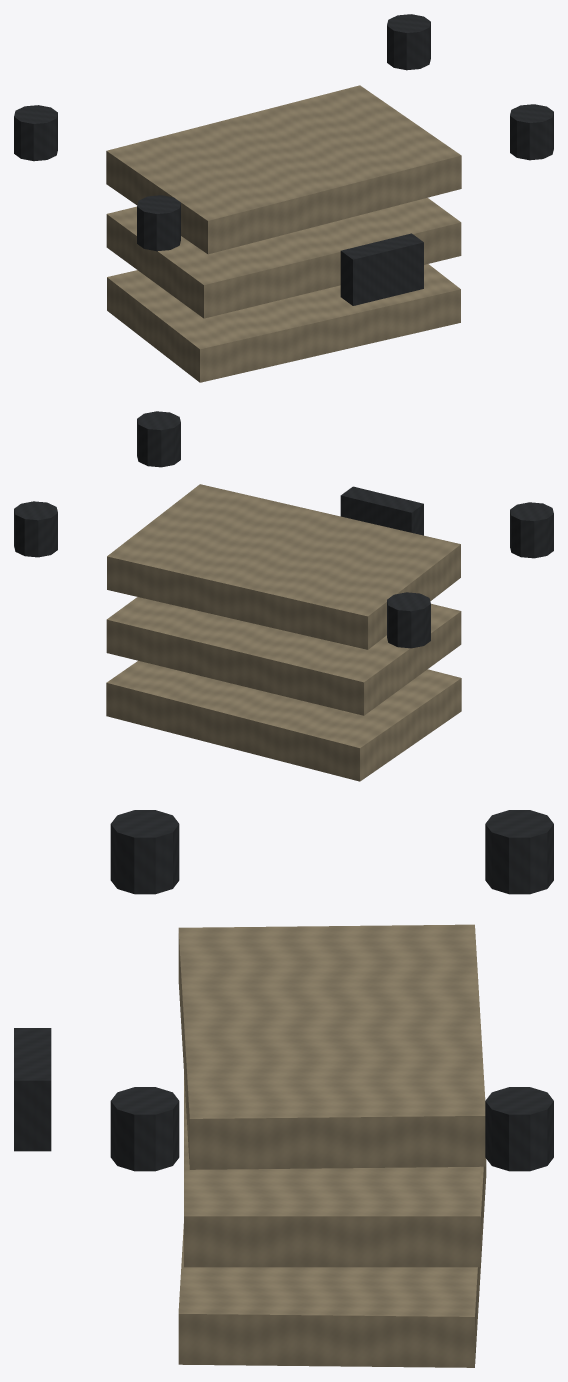
File: underworld-refined-titanbone-plate.glb
The picture shows the model from 3 angles, top to bottom: view 1: azimuth 30°, elevation 25°; view 2: azimuth 150°, elevation 25°; view 3: azimuth 270°, elevation 25°; orthographic projection. The views are drawn at different scales.
Parts seen in each view (by area): view 1: plate-2, plate-0, plate-1, maker-key, rivet--1-1, rivet--1--1, rivet-1--1, rivet-1-1; view 2: plate-2, plate-0, plate-1, maker-key, rivet--1--1, rivet--1-1, rivet-1-1, rivet-1--1; view 3: plate-2, plate-0, plate-1, rivet--1--1, rivet-1--1, rivet--1-1, rivet-1-1, maker-key.
Boxes of the visible parts, x1=… form: plate-2: x1=106, y1=85, x2=461, y2=254; plate-0: x1=107, y1=264, x2=460, y2=382; plate-1: x1=106, y1=198, x2=461, y2=318; maker-key: x1=340, y1=233, x2=423, y2=305; rivet--1-1: x1=14, y1=105, x2=57, y2=161; rivet--1--1: x1=137, y1=195, x2=180, y2=251; rivet-1--1: x1=510, y1=104, x2=553, y2=160; rivet-1-1: x1=387, y1=14, x2=430, y2=70; plate-2: x1=107, y1=484, x2=460, y2=649; plate-0: x1=106, y1=660, x2=461, y2=781; plate-1: x1=106, y1=597, x2=461, y2=715; maker-key: x1=340, y1=486, x2=423, y2=535; rivet--1--1: x1=510, y1=502, x2=553, y2=558; rivet--1-1: x1=387, y1=592, x2=430, y2=648; rivet-1-1: x1=14, y1=501, x2=57, y2=557; rivet-1--1: x1=137, y1=411, x2=180, y2=467; plate-2: x1=178, y1=924, x2=486, y2=1169; plate-0: x1=178, y1=1166, x2=486, y2=1367; plate-1: x1=184, y1=1074, x2=480, y2=1267; rivet--1--1: x1=110, y1=810, x2=179, y2=894; rivet-1--1: x1=110, y1=1087, x2=179, y2=1171; rivet--1-1: x1=485, y1=810, x2=553, y2=894; rivet-1-1: x1=485, y1=1087, x2=553, y2=1171; maker-key: x1=14, y1=1028, x2=51, y2=1151.
Size of the model in its own units: 0.2309 by 0.109 by 0.173.
Materials: 2 (2 with a texture image).
